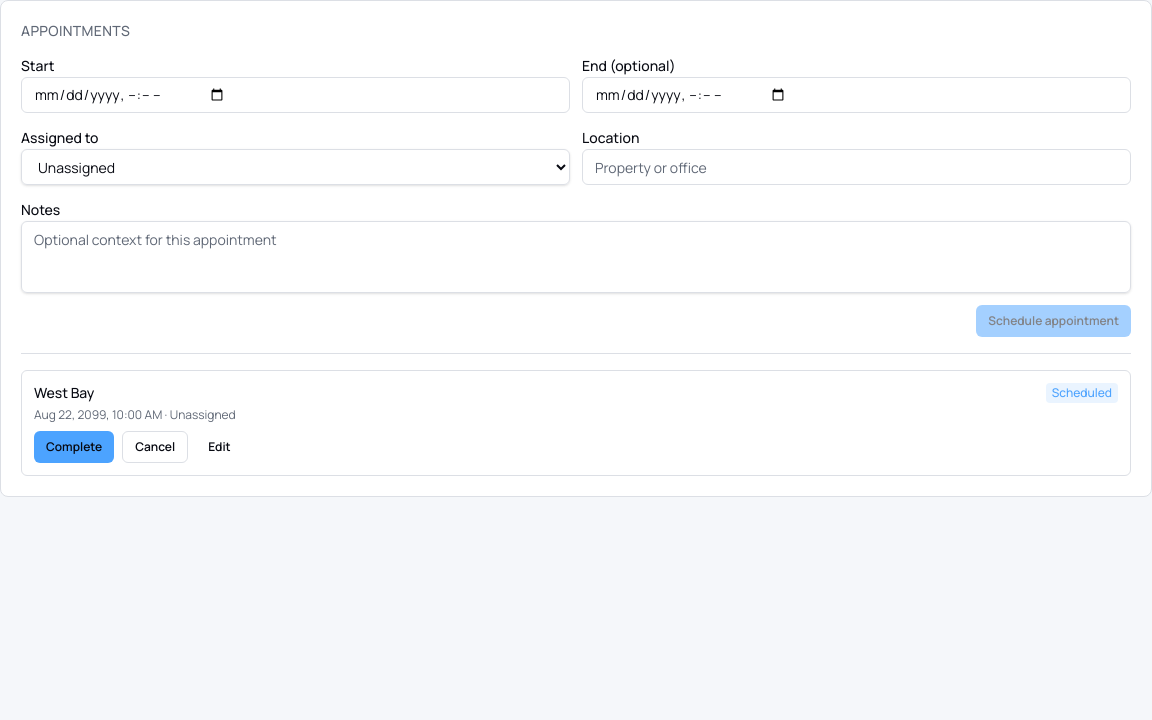
AppointmentList › completes a scheduled appointment
The width and height of the screenshot is (1152, 720).
Expected: the text "West Bay" is shown, [34,383,94,402]
Click the button "Complete" at [74, 447], box [34,431,114,463]
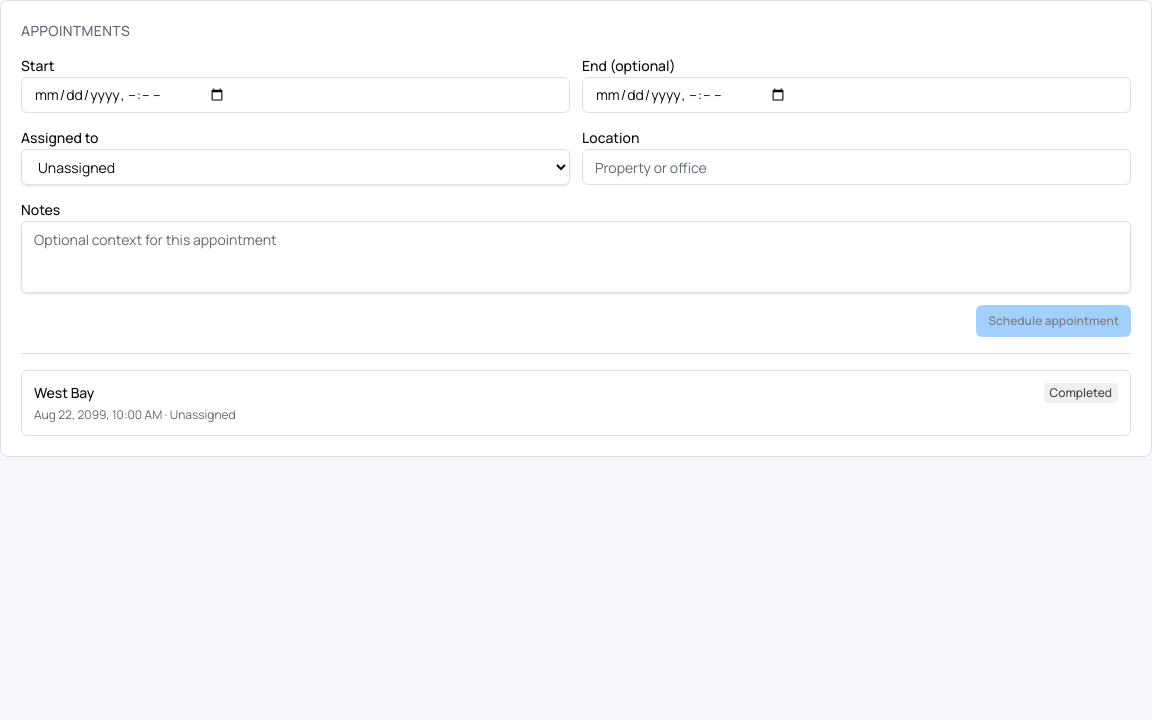
Expected: the text "Completed" is shown, [1044,383,1118,403]
